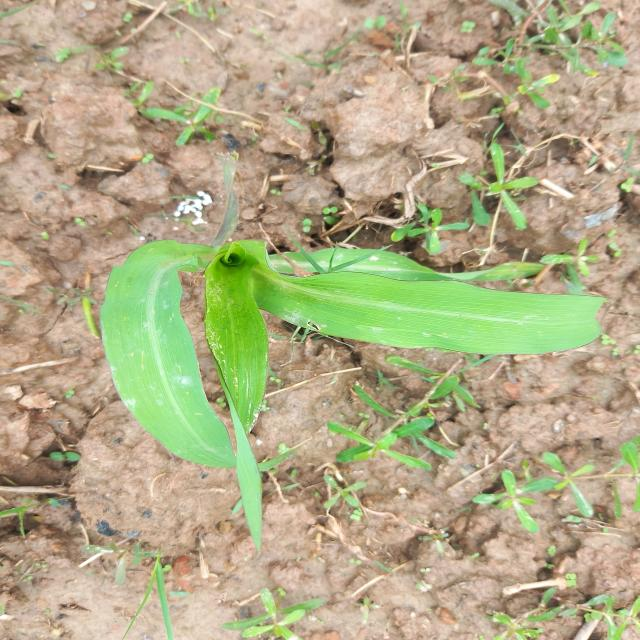maize: (83, 198, 621, 456)
weed: (326, 370, 494, 458), (74, 528, 202, 630), (452, 25, 570, 119), (483, 451, 605, 529), (498, 578, 640, 636), (524, 4, 632, 74), (465, 144, 550, 230), (125, 94, 241, 154), (209, 580, 320, 640), (85, 44, 178, 106), (285, 29, 380, 86), (394, 194, 460, 253), (305, 462, 372, 514), (606, 422, 640, 522), (538, 241, 604, 288), (351, 2, 429, 41), (0, 494, 58, 542), (43, 430, 94, 480), (173, 0, 246, 32), (341, 586, 379, 612), (611, 170, 638, 203)
